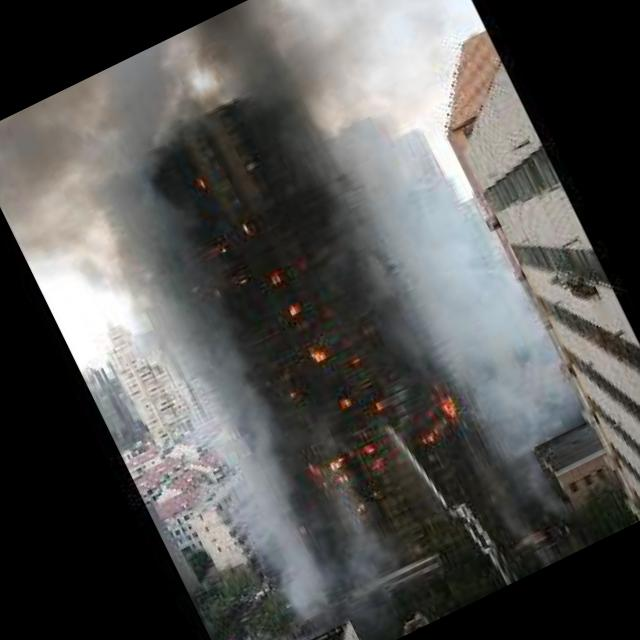fire: (286, 378, 478, 532), (252, 253, 308, 332), (288, 330, 334, 372), (326, 380, 366, 424), (224, 207, 262, 246)
smoke: (0, 71, 358, 640), (180, 0, 544, 434), (299, 470, 420, 619)
